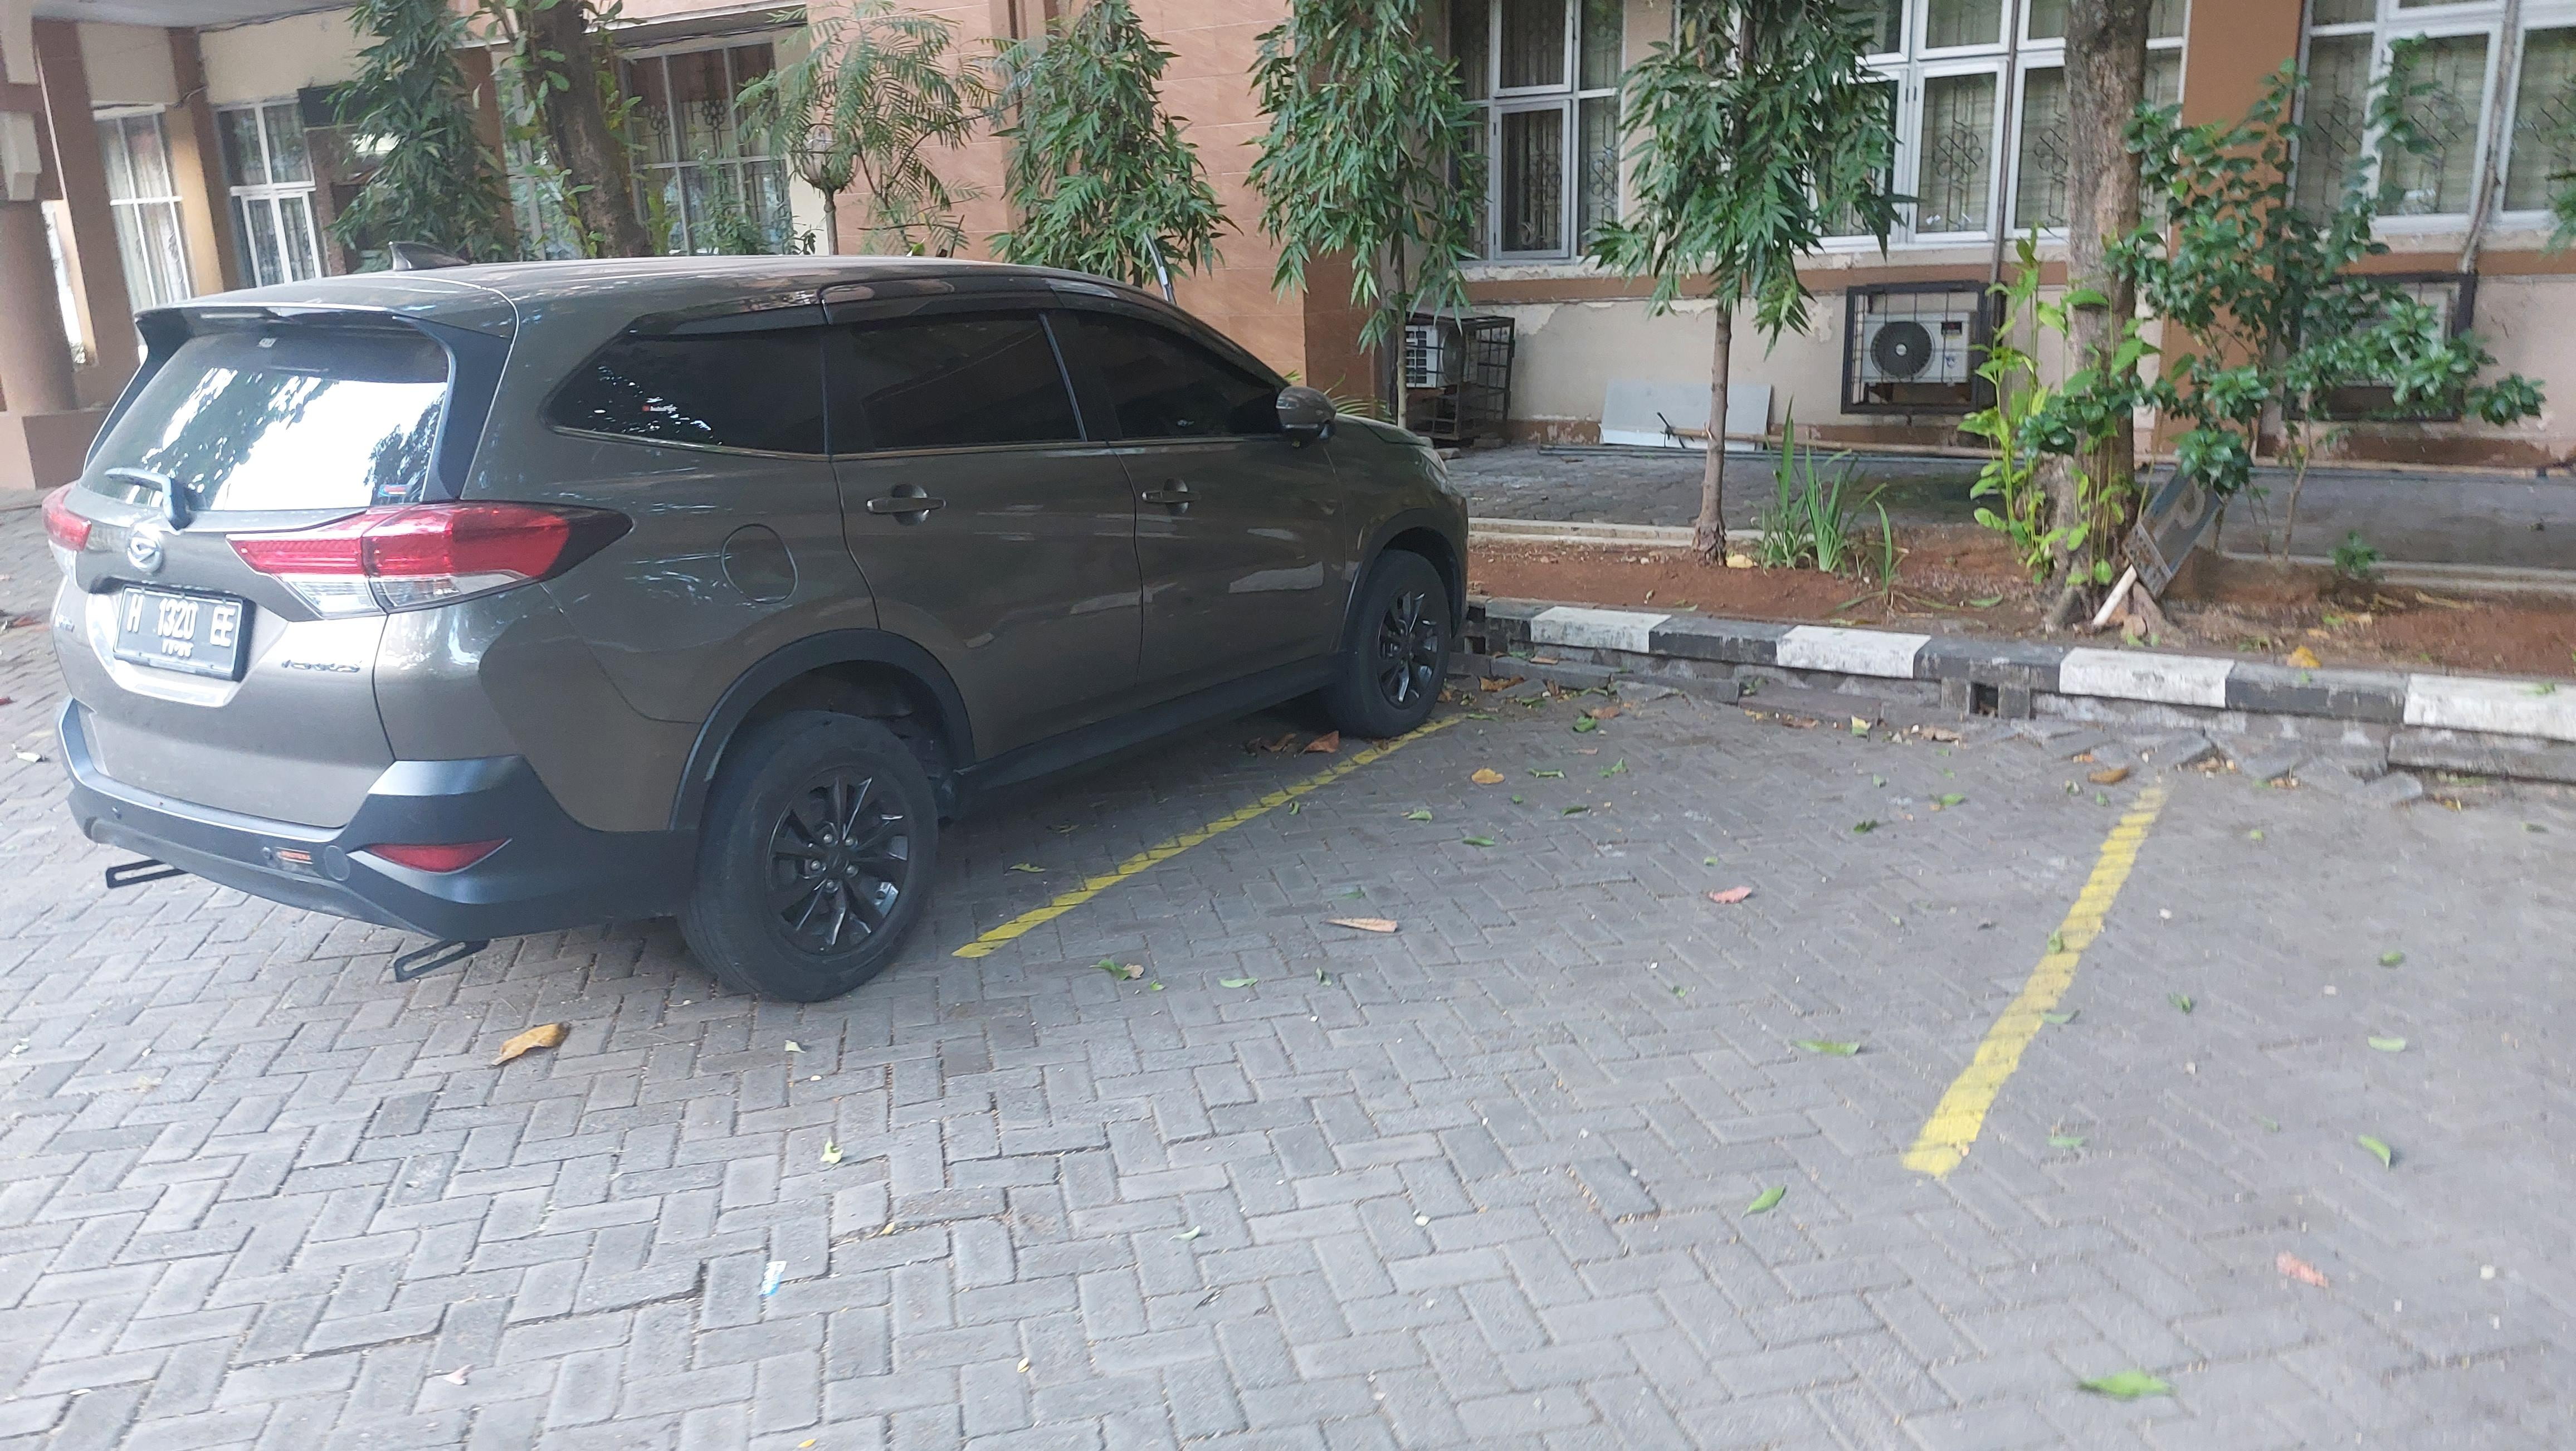empty: (958, 691, 2189, 1157), (1895, 751, 2576, 1241)
occupied: (42, 250, 1485, 1029)
